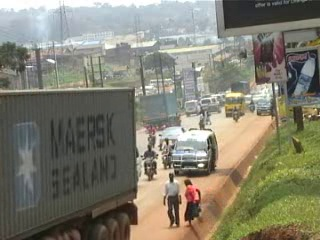Car: (158, 123, 188, 155), (204, 101, 222, 113)
Motorcycle: (140, 144, 159, 183), (157, 138, 180, 170), (143, 120, 159, 148), (230, 105, 242, 123), (248, 98, 256, 113)
